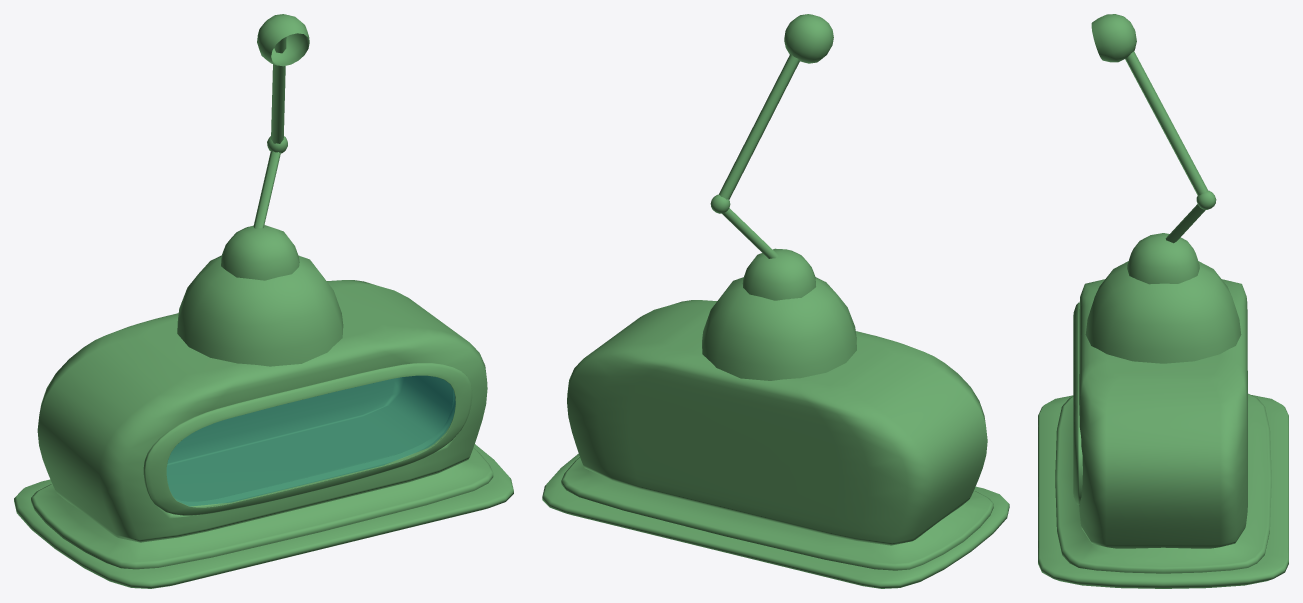
The model's file is Appliances_Fabricator.fbx.
3 views of the same model, side by side, from view 1: azimuth 30°, elevation 25°; view 2: azimuth 150°, elevation 25°; view 3: azimuth 270°, elevation 25° (orthographic). The views are drawn at different scales.
Visible parts, largest first — view 1: Fabricator; view 2: Fabricator; view 3: Fabricator.
Part boxes in pixels (box(x1,y1,x2,y2)): Fabricator: box(14, 14, 513, 588); Fabricator: box(542, 14, 1009, 588); Fabricator: box(1038, 14, 1288, 588).
Size of the model in its own units: 184 by 216 by 102.
